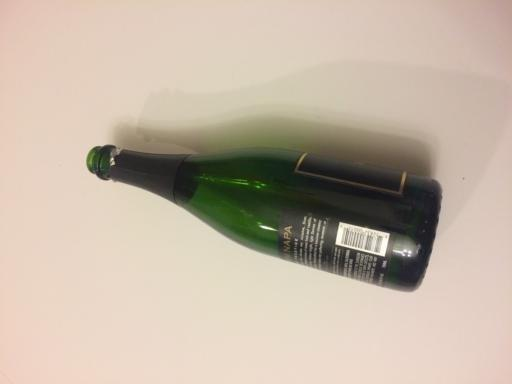botolkaca: (86, 143, 442, 293)
